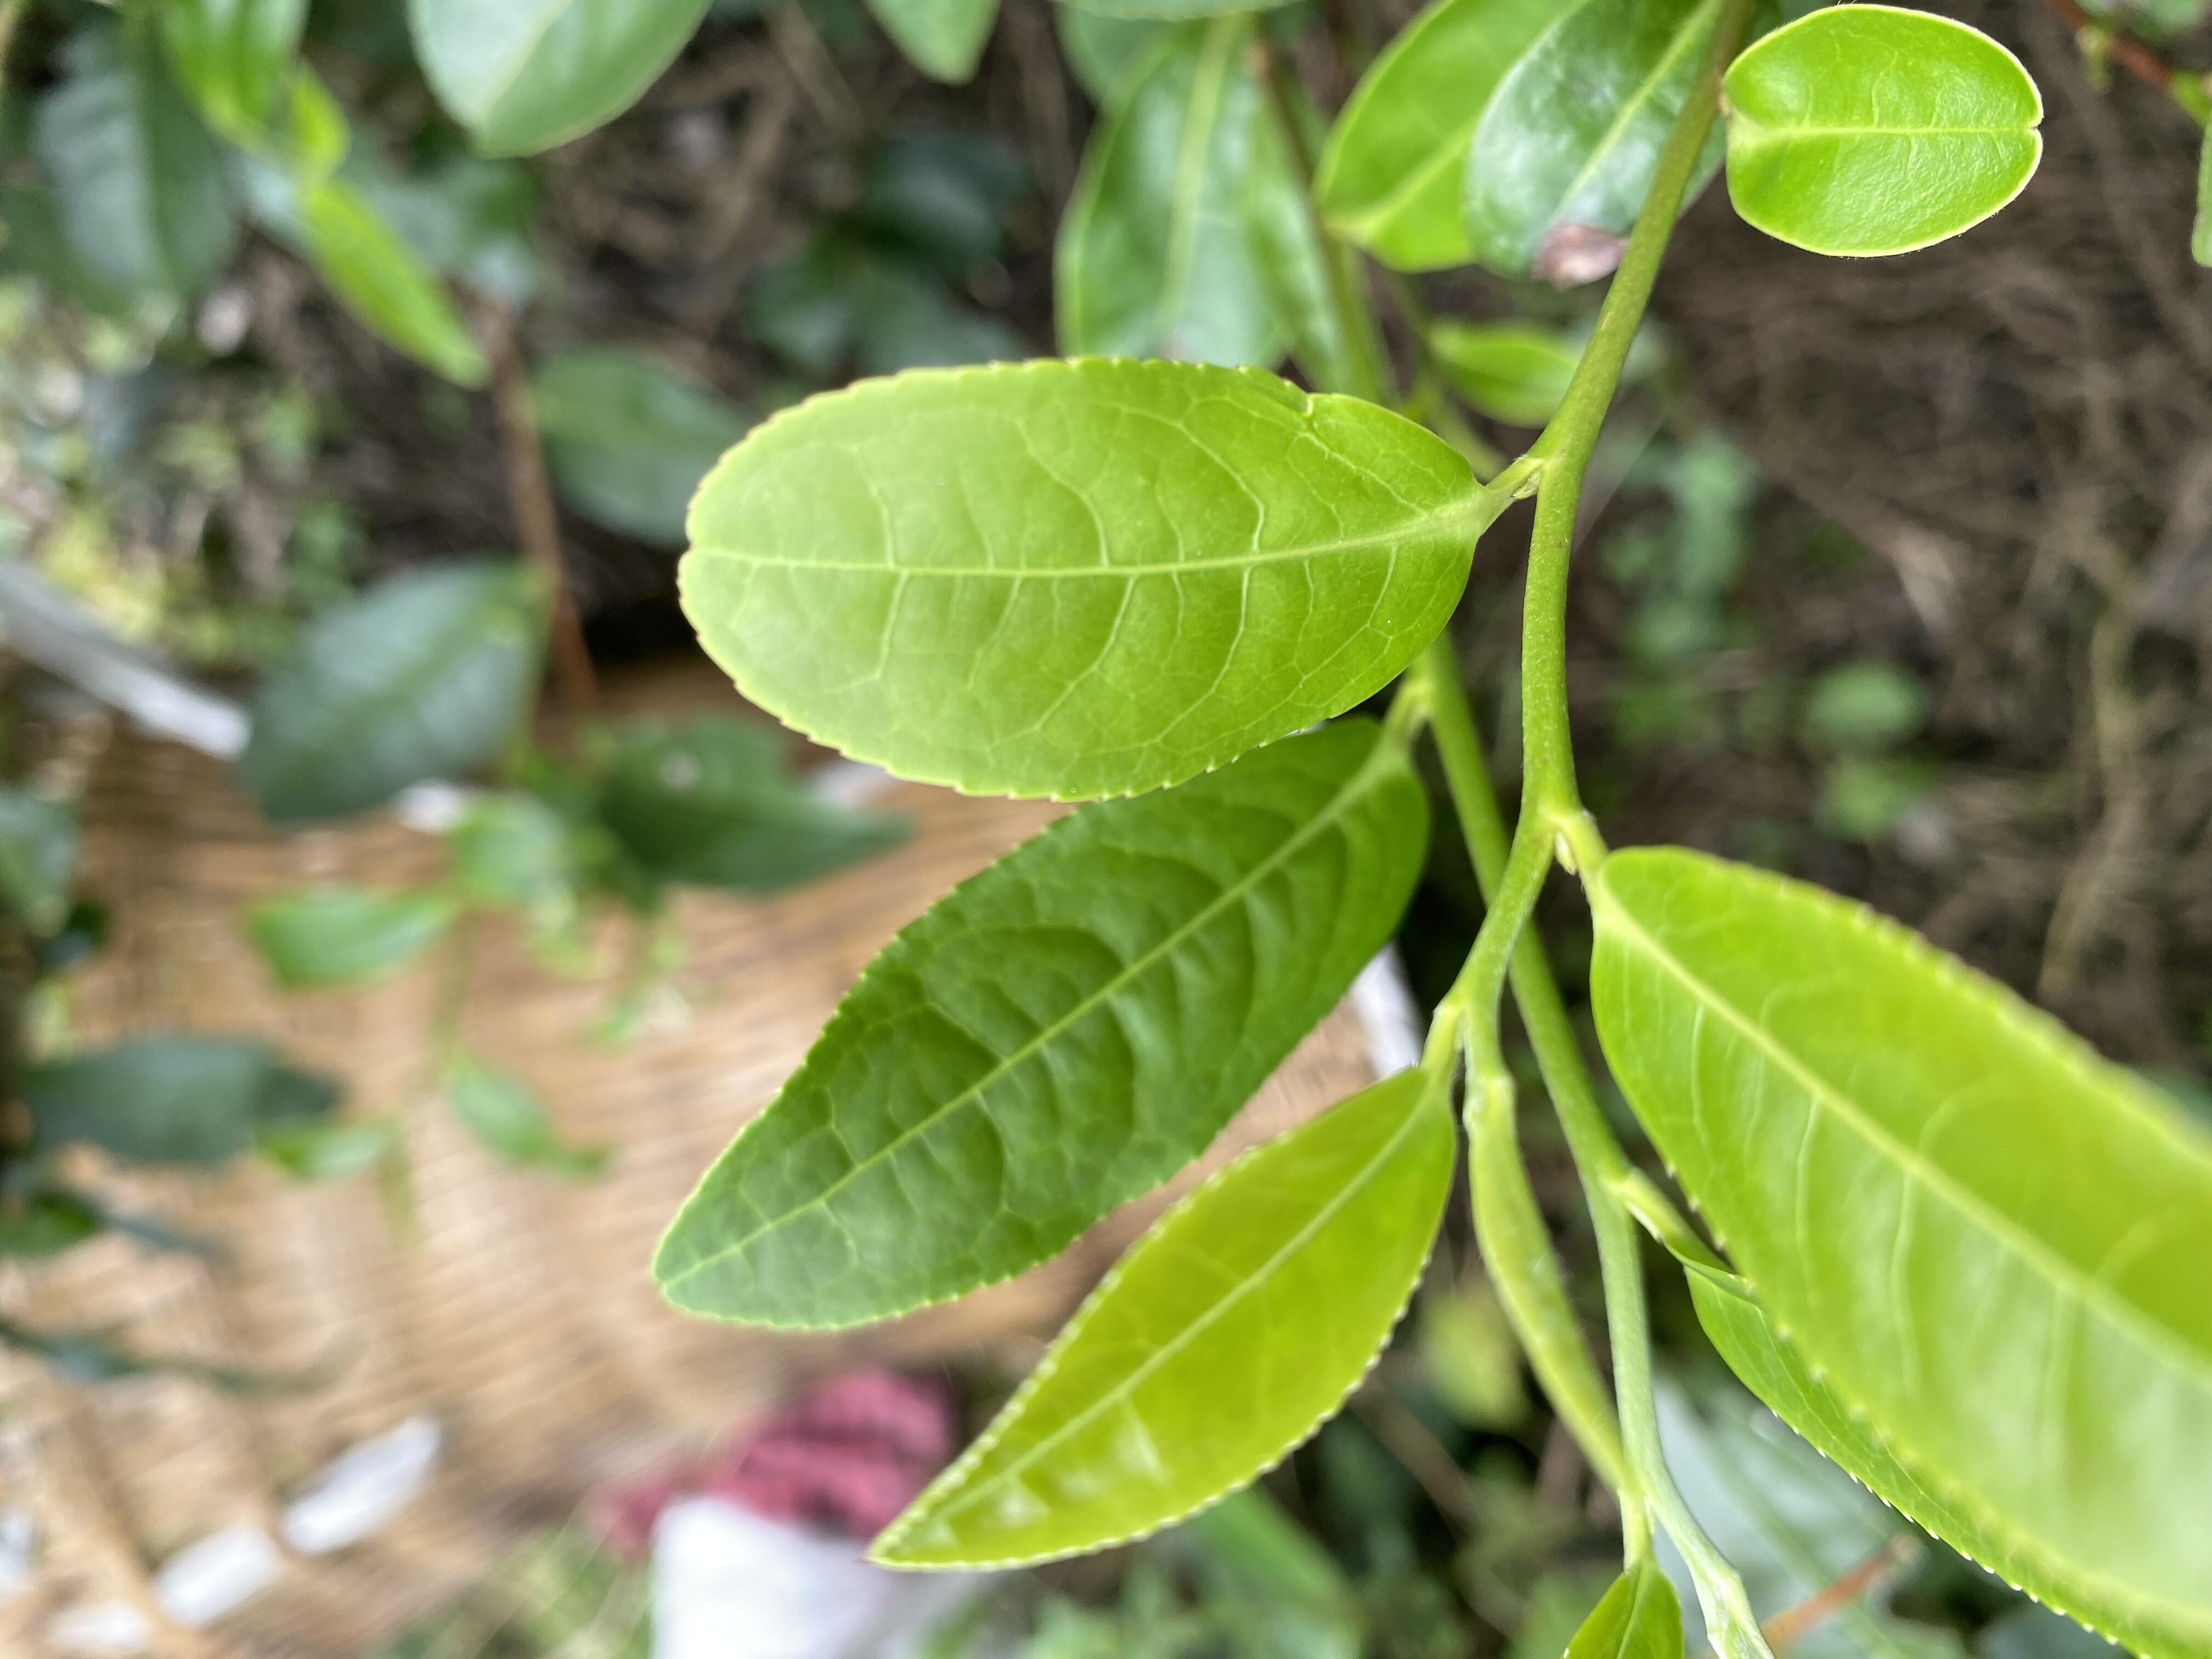healthy: (1580, 843, 2212, 1624), (650, 718, 1430, 1324), (674, 356, 1482, 805), (855, 1070, 1458, 1579), (1721, 7, 2047, 258)
tanju_high: (1465, 3, 1723, 286)
